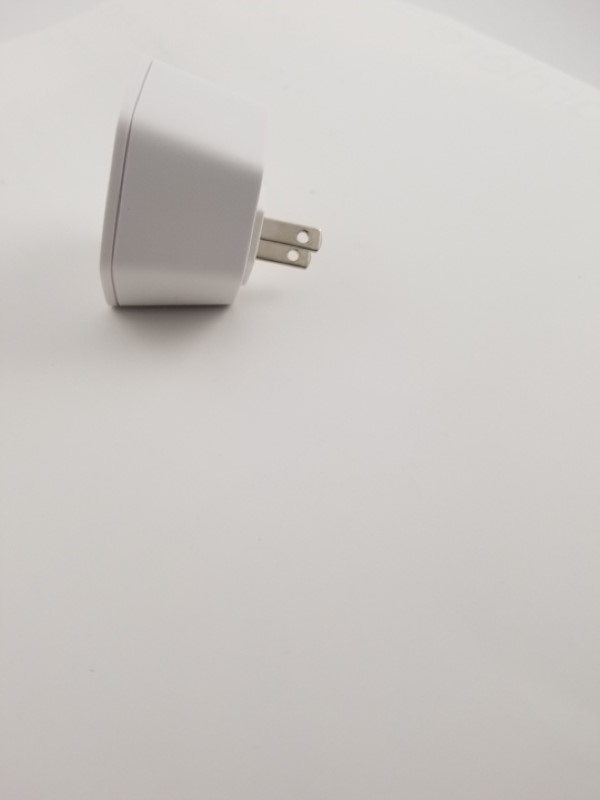pod: (93, 55, 334, 323)
